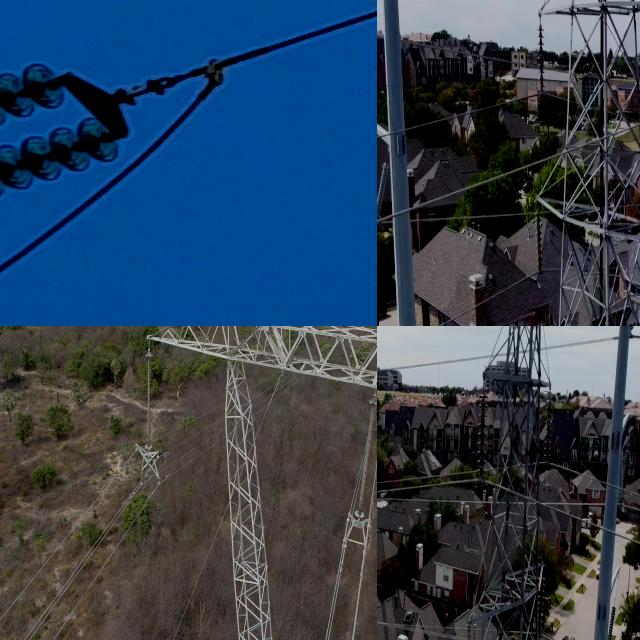杆塔: (143, 326, 377, 640), (528, 0, 640, 326), (463, 326, 549, 640)
正常绝缘子: (0, 110, 132, 196), (0, 54, 82, 126), (345, 379, 377, 545), (140, 339, 161, 479), (472, 385, 495, 508), (534, 7, 548, 104), (542, 376, 554, 474), (529, 202, 546, 270), (536, 570, 550, 640)
